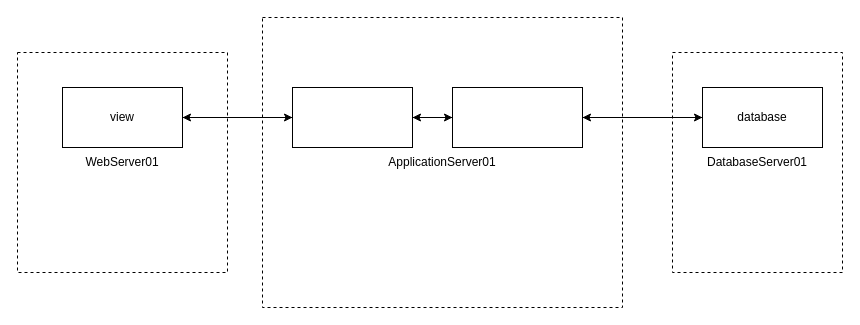
Image size: 860x325. Some labels were removed from this diagram. The shapes that lost their labels are listed below. From the top down, each one's centre as x and y in pixels, then its label:
the point at 352,117: controller
the point at 517,117: model
